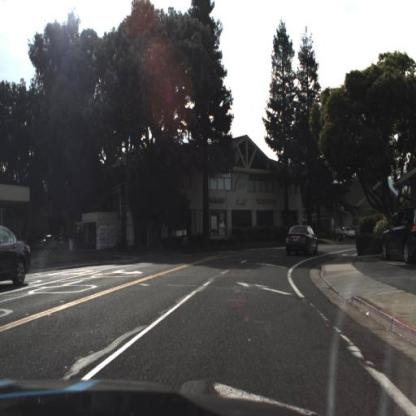car: (379, 205, 416, 267), (1, 225, 33, 290), (284, 220, 322, 260)
